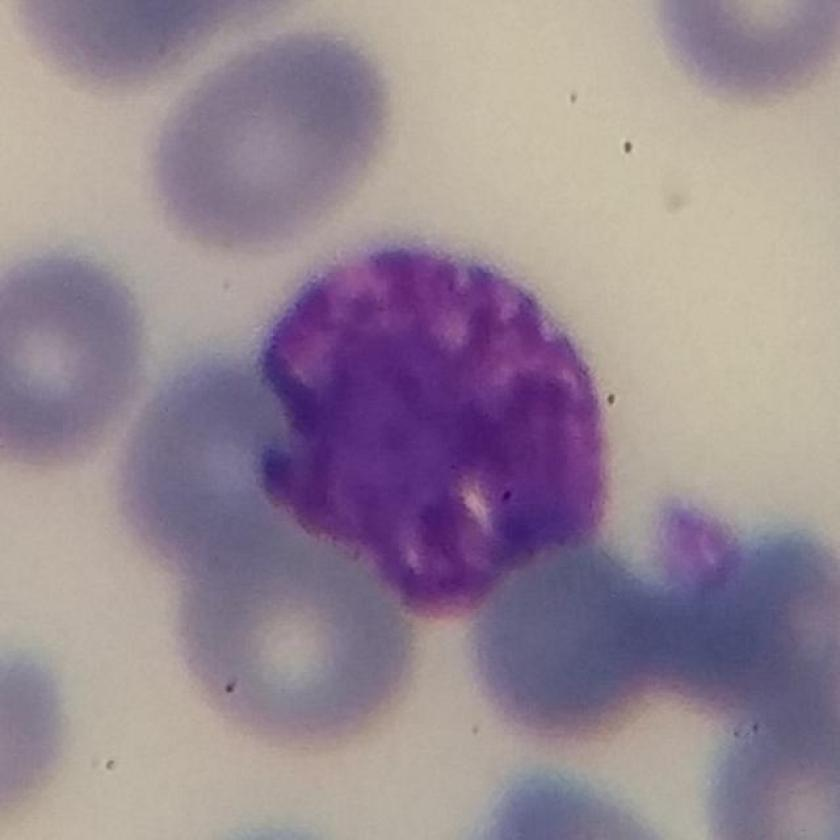basophil: (252, 226, 634, 630)
